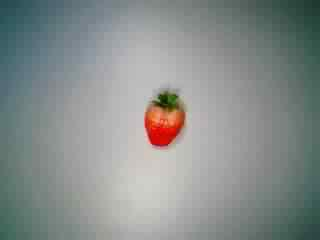strawberry: (130, 90, 196, 152)
